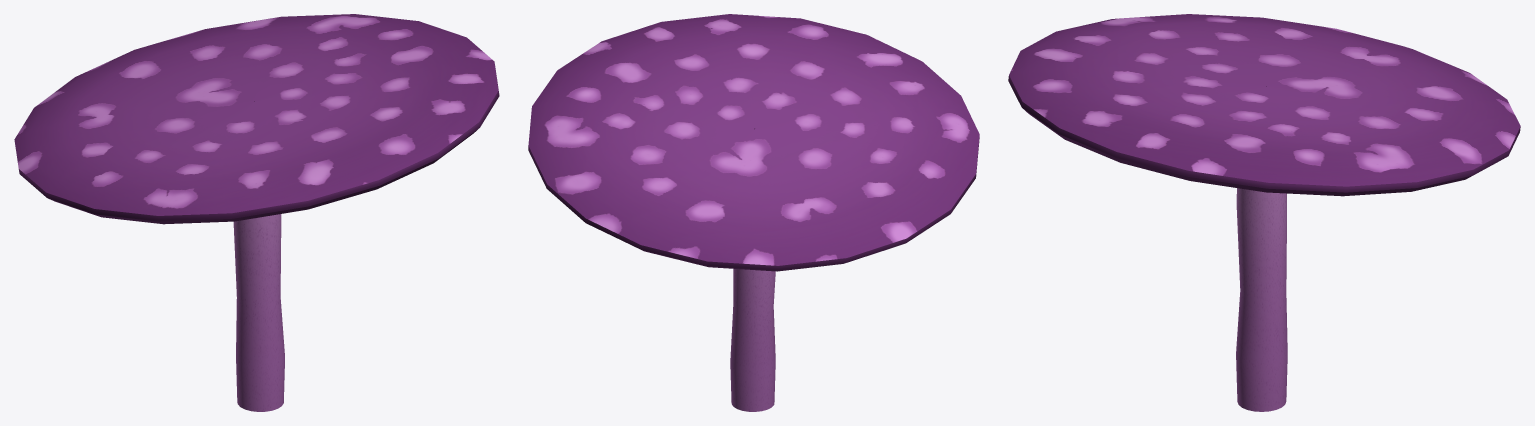
Rendered from MushroomModel_Single.fbx.
3 views of the same model, side by side, from view 1: azimuth 30°, elevation 25°; view 2: azimuth 150°, elevation 25°; view 3: azimuth 270°, elevation 25° (orthographic). The views are drawn at different scales.
Parts seen in each view (by area): view 1: pCylinder4; view 2: pCylinder4; view 3: pCylinder4.
Part boxes in pixels (x1,y1,x2,y2): pCylinder4: (14,14,499,411); pCylinder4: (528,14,979,411); pCylinder4: (1008,14,1520,411).
Size of the model in its own units: 3.58 by 2.61 by 3.58.
1 material, 1 textured.
